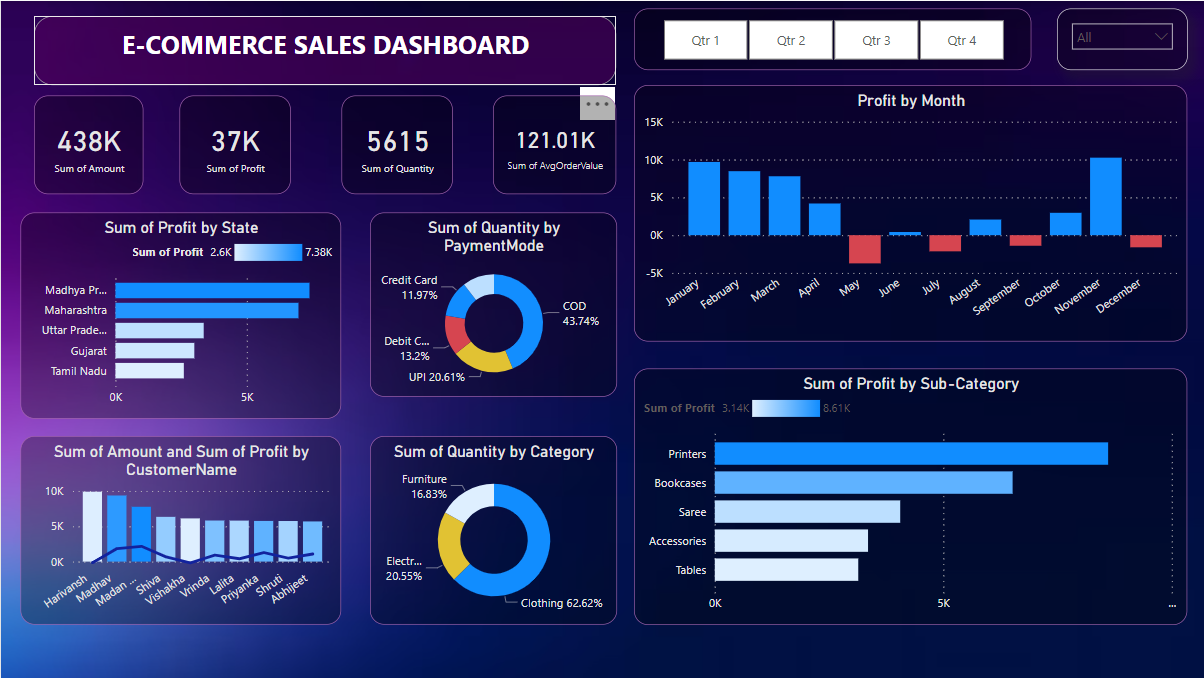

The dashboard page shown, as its layout file describes it:
{"tool":"powerbi","page":{"name":"Page 1","canvas":[1280,720],"ordinal":0},"visuals":[{"type":"textbox","box":[35,15.9,617.2,73.2],"z":0},{"type":"columnChart","title":"Profit by Month","fields":{"Y":["Details.Profit"],"Category":["Orders.Order Date.Variation.Date Hierarchy.Month"]},"box":[671.7,88.3,586.7,271.7],"z":1000},{"type":"barChart","fields":{"Category":["Details.Sub-Category"],"Y":["Details.Profit"]},"box":[671.7,390,586.7,271.7],"z":2000},{"type":"donutChart","fields":{"Category":["Details.Category"],"Y":["Details.Quantity"]},"box":[391.7,461.7,261.7,200],"z":3000},{"type":"donutChart","fields":{"Category":["Details.PaymentMode"],"Y":["Details.Quantity"]},"box":[391.7,225,261.7,195],"z":4000},{"type":"card","fields":{"Values":["Details.Amount"]},"box":[35,100.2,116.1,105],"z":5000},{"type":"card","fields":{"Values":["Details.Profit"]},"box":[189.3,100.2,117.7,105],"z":6000},{"type":"card","fields":{"Values":["Details.Quantity"]},"box":[361.1,100.2,117.7,105],"z":7000},{"type":"card","fields":{"Values":["Details.Average-Order-Value"]},"box":[521.7,100.2,130.4,105],"z":8000},{"type":"barChart","fields":{"Y":["Details.Profit"],"Category":["Orders.State"]},"box":[20,225,340,218.3],"z":9000},{"type":"lineStackedColumnComboChart","fields":{"Category":["Orders.CustomerName"],"Y":["Details.Amount"],"Y2":["Details.Profit"]},"box":[20,461.7,340,200],"z":10000},{"type":"slicer","fields":{"Values":["Orders.Order Date.Variation.Date Hierarchy.Quarter"]},"box":[671.2,8,421.5,65.2],"z":10001},{"type":"slicer","fields":{"Values":["Orders.State"]},"box":[1119.8,8,138.4,65.2],"z":10002}]}

Visuals, with their boxes in screenshot pixels (x1, y1, x2, y2), scaled from the page's 1280x720 canvas onto the 1204x678 screenshot:
textbox: detection(33, 15, 613, 84)
"Profit by Month" columnChart: detection(632, 83, 1184, 339)
barChart - Details.Sub-Category x Details.Profit: detection(632, 367, 1184, 623)
donutChart - Details.Category x Details.Quantity: detection(368, 435, 615, 623)
donutChart - Details.PaymentMode x Details.Quantity: detection(368, 212, 615, 396)
card - Details.Amount: detection(33, 94, 142, 193)
card - Details.Profit: detection(178, 94, 289, 193)
card - Details.Quantity: detection(340, 94, 450, 193)
card - Details.Average-Order-Value: detection(491, 94, 613, 193)
barChart - Details.Profit x Orders.State: detection(19, 212, 339, 417)
lineStackedColumnComboChart - Orders.CustomerName x Details.Amount: detection(19, 435, 339, 623)
slicer - Orders.Order Date.Variation.Date Hierarchy.Quarter: detection(631, 8, 1028, 69)
slicer - Orders.State: detection(1053, 8, 1183, 69)
